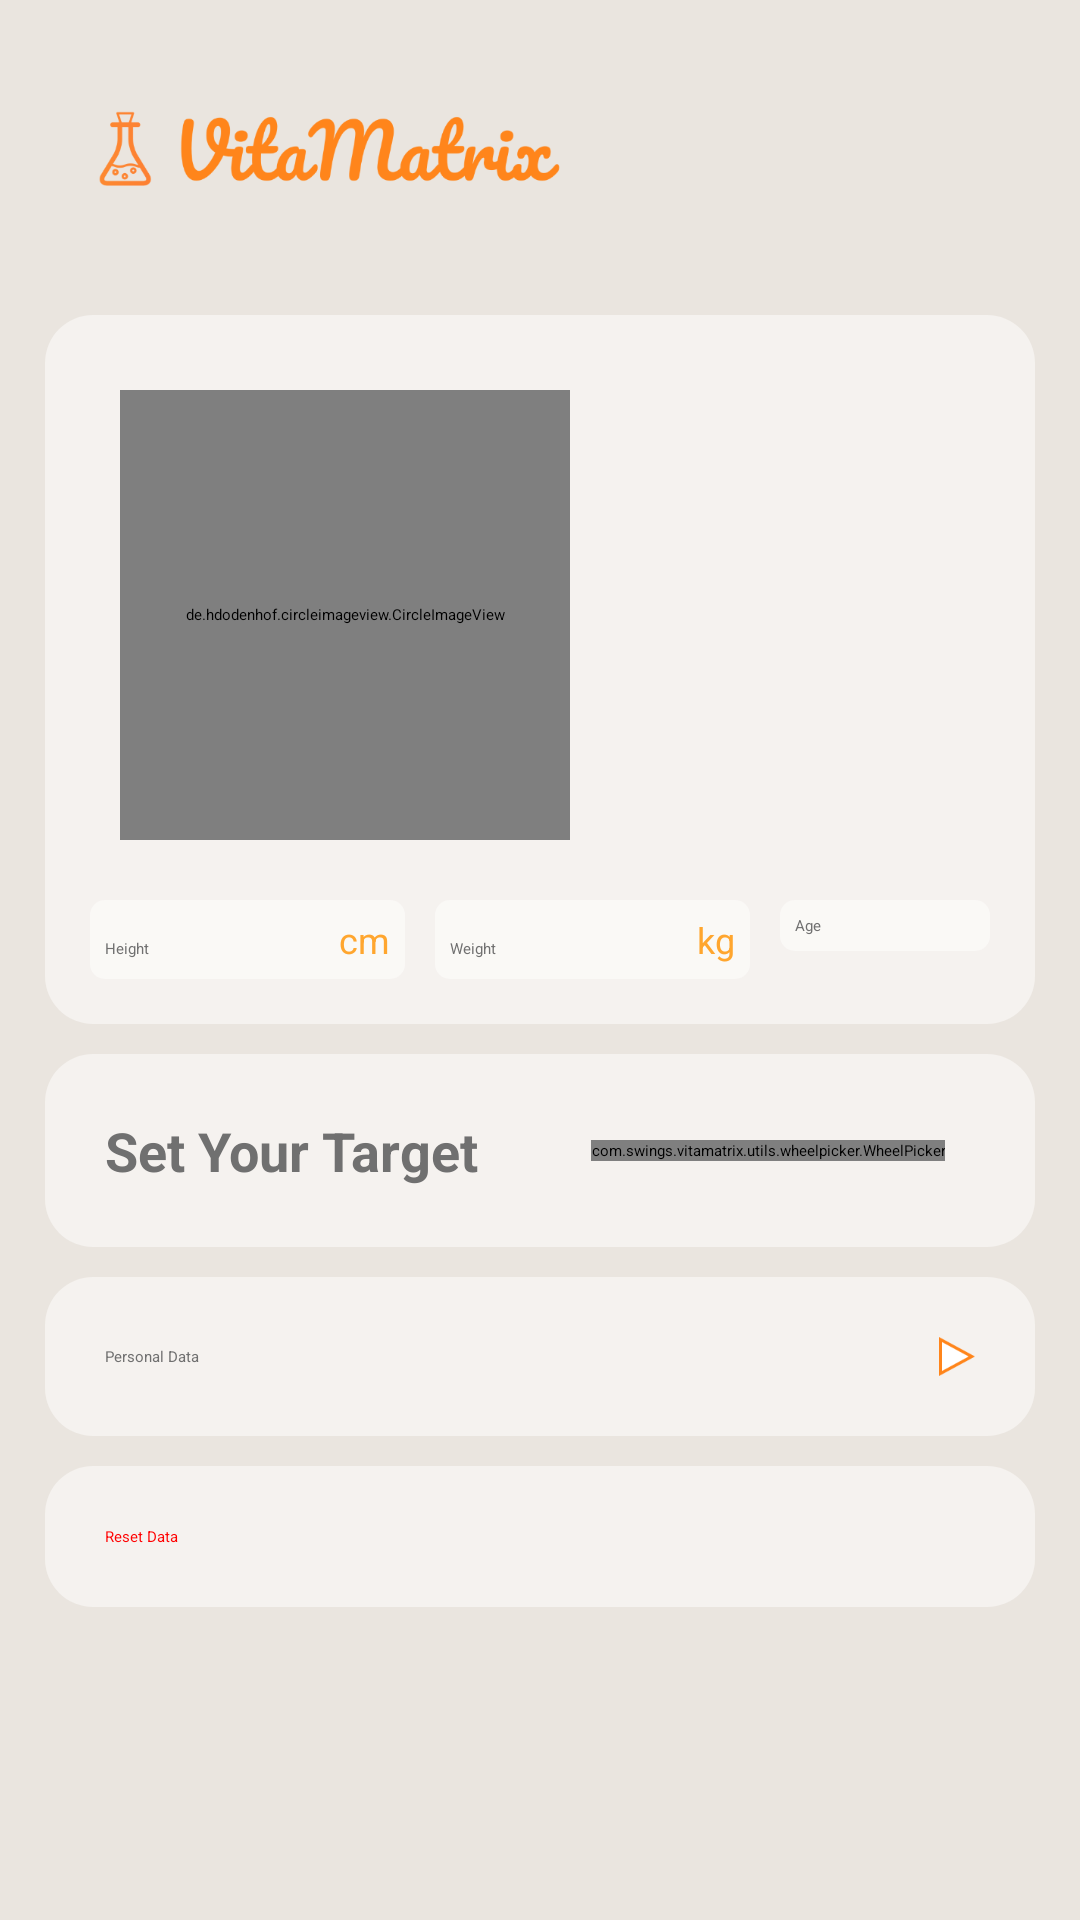

Icons on this 1080×1920 Android screen, each with the point to tap as (x=x, y=y):
next: (x=957, y=1356)
